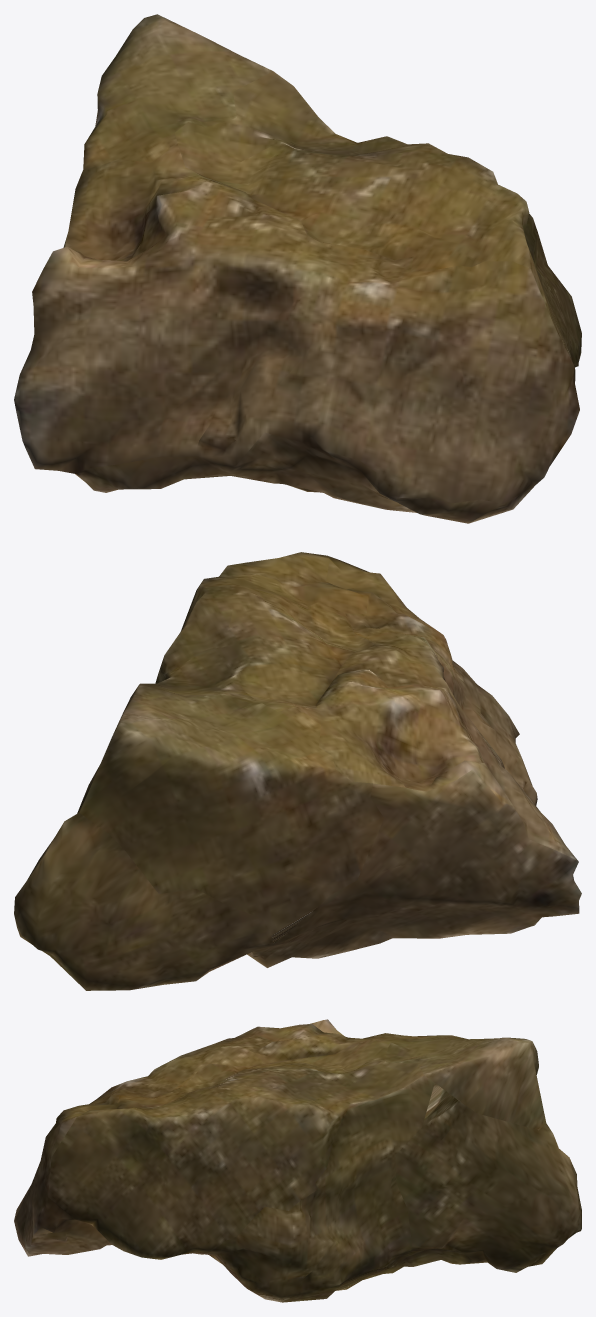
File: verdant-rock-boulder.glb
The picture shows the model from 3 angles, top to bottom: view 1: azimuth 30°, elevation 25°; view 2: azimuth 150°, elevation 25°; view 3: azimuth 270°, elevation 25°; orthographic projection. The views are drawn at different scales.
Visible parts, largest first — view 1: verdant-rock-boulder-0; view 2: verdant-rock-boulder-0; view 3: verdant-rock-boulder-0.
Boxes of the visible parts, x1,y1,x2,y2 form: verdant-rock-boulder-0: (14,14,581,523); verdant-rock-boulder-0: (14,552,581,990); verdant-rock-boulder-0: (14,1019,581,1302).
Size of the model in its own units: 1.06 by 0.6294 by 1.38.
1 material, 1 textured.
